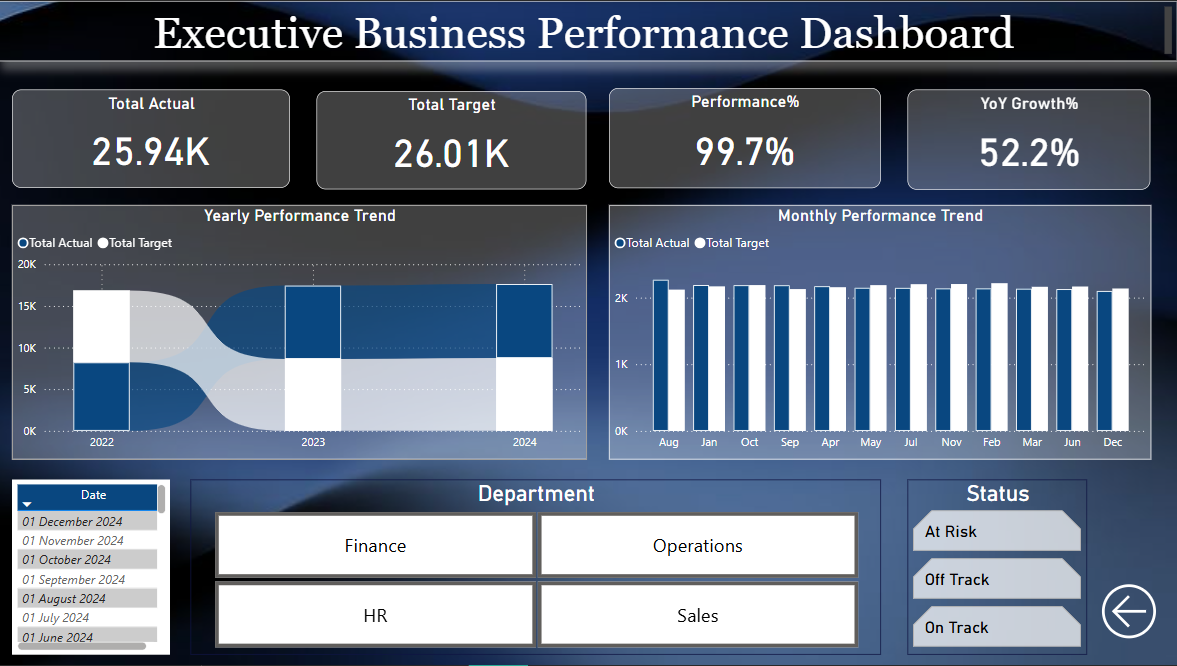

The page's visual inventory and layout, read from the dashboard file:
{"tool":"powerbi","page":{"name":"Drill Through – KPI Detail","canvas":[1280,720],"ordinal":1},"visuals":[{"type":"tableEx","title":"Date","fields":{"Values":["Sheet1.Date"]},"box":[16.7,518.7,171.5,190.3],"z":2},{"type":"actionButton","box":[1181.7,614.9,89.9,94.1],"z":6},{"type":"textbox","box":[0,0,1280.1,65.1],"z":8},{"type":"card","title":"Total Actual","fields":{"Values":["Sheet1.Total Actual"]},"box":[16.7,96.2,301.2,106.7],"z":9},{"type":"card","title":"Total Target","fields":{"Values":["Sheet1.Total Target"]},"box":[347.2,98.3,292.8,106.7],"z":10},{"type":"card","title":"Performance%","fields":{"Values":["Sheet1.Performance %"]},"box":[663,94.1,294.9,108.8],"z":11},{"type":"card","title":"YoY Growth%","fields":{"Values":["Sheet1.YoY Growth %"]},"box":[987.2,96.2,263.5,108.8],"z":12},{"type":"clusteredColumnChart","title":"Monthly Performance Trend","fields":{"Category":["DateTable.Month"],"Y":["Sheet1.Total Actual","Sheet1.Total Target"]},"box":[663,221.7,587.7,276.1],"z":13},{"type":"ribbonChart","title":"Yearly Performance Trend","fields":{"Category":["DateTable.Year"],"Y":["Sheet1.Total Actual","Sheet1.Total Target"]},"box":[16.7,221.7,623.3,276.1],"z":14},{"type":"advancedSlicerVisual","title":"Status","fields":{"Values":["Sheet1.Status"]},"box":[987.2,518.7,194.5,190.3],"z":15},{"type":"slicer","title":"Department","fields":{"Values":["Sheet1.Department"]},"box":[209.2,518.7,748.8,190.3],"z":16}]}

Visuals, with their boxes in screenshot pixels (x1, y1, x2, y2), scaled from the page's 1280x720 canvas onto the 1177x666 screenshot:
"Date" tableEx: bbox(15, 480, 173, 656)
actionButton: bbox(1087, 569, 1169, 656)
textbox: bbox(0, 0, 1176, 60)
"Total Actual" card: bbox(15, 89, 292, 188)
"Total Target" card: bbox(319, 91, 588, 190)
"Performance%" card: bbox(610, 87, 881, 188)
"YoY Growth%" card: bbox(908, 89, 1150, 190)
"Monthly Performance Trend" clusteredColumnChart: bbox(610, 205, 1150, 460)
"Yearly Performance Trend" ribbonChart: bbox(15, 205, 588, 460)
"Status" advancedSlicerVisual: bbox(908, 480, 1087, 656)
"Department" slicer: bbox(192, 480, 881, 656)
